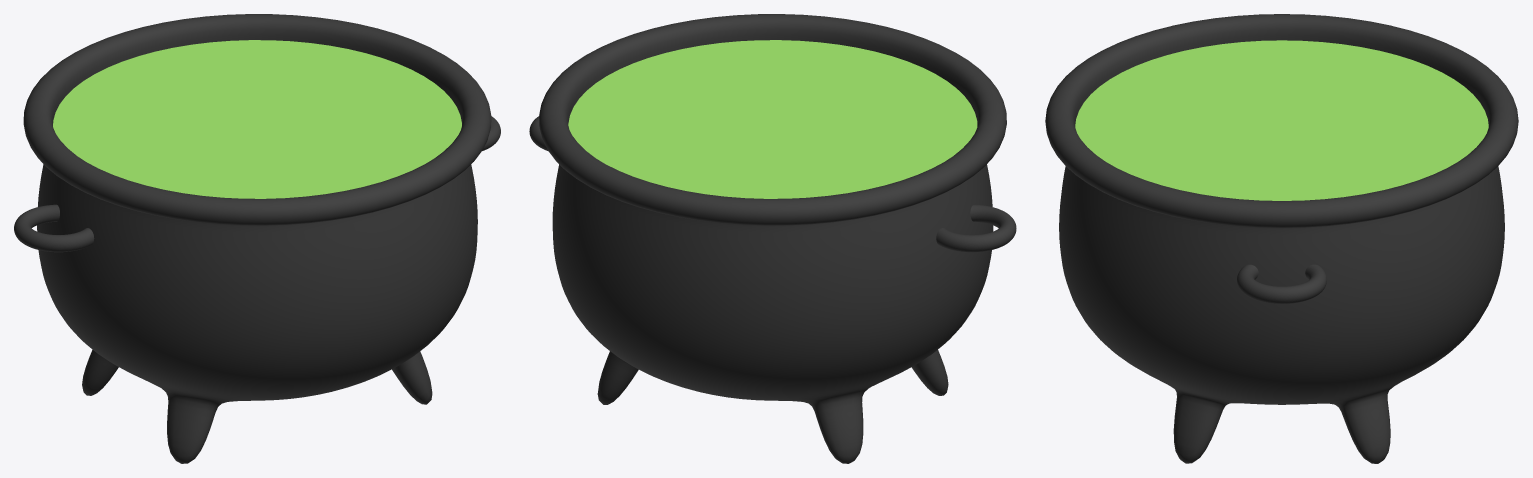
The model's file is kessel_norm.glb.
3 views of the same model, side by side, from view 1: azimuth 30°, elevation 25°; view 2: azimuth 150°, elevation 25°; view 3: azimuth 270°, elevation 25° (orthographic).
Parts seen in each view (by area): view 1: Sphere, Sphere.001, Sphere.002; view 2: Sphere, Sphere.001, Sphere.002; view 3: Sphere, Sphere.001, Sphere.002.
Part boxes in pixels (x1,y1,x2,y2): Sphere: [23, 14, 491, 463]; Sphere.001: [53, 40, 461, 198]; Sphere.002: [14, 116, 500, 252]; Sphere: [539, 14, 1006, 463]; Sphere.001: [568, 40, 977, 198]; Sphere.002: [529, 116, 1016, 252]; Sphere: [1045, 14, 1518, 463]; Sphere.001: [1075, 40, 1488, 200]; Sphere.002: [1237, 264, 1326, 303].
Bounding box in the file's own units: 2.41 × 1.41 × 2.06.
